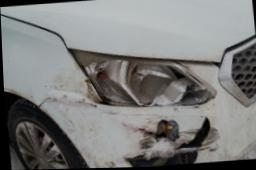Fender: (3, 44, 256, 168)
Light: (64, 47, 219, 110)
